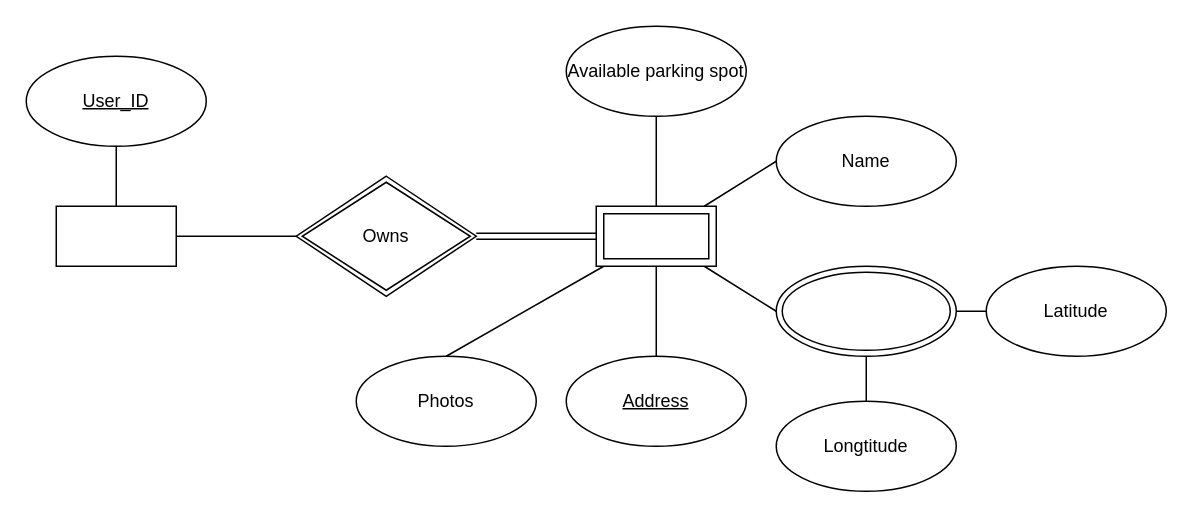
This 1193x518 diagram has some shape labels left out. The shapes that lost their labels are listed below. From the top down, each one's centre as x and y in pixels, then its label:
the point at 115,235: User
the point at 655,235: Parking Lot
the point at 865,310: Coordinate
